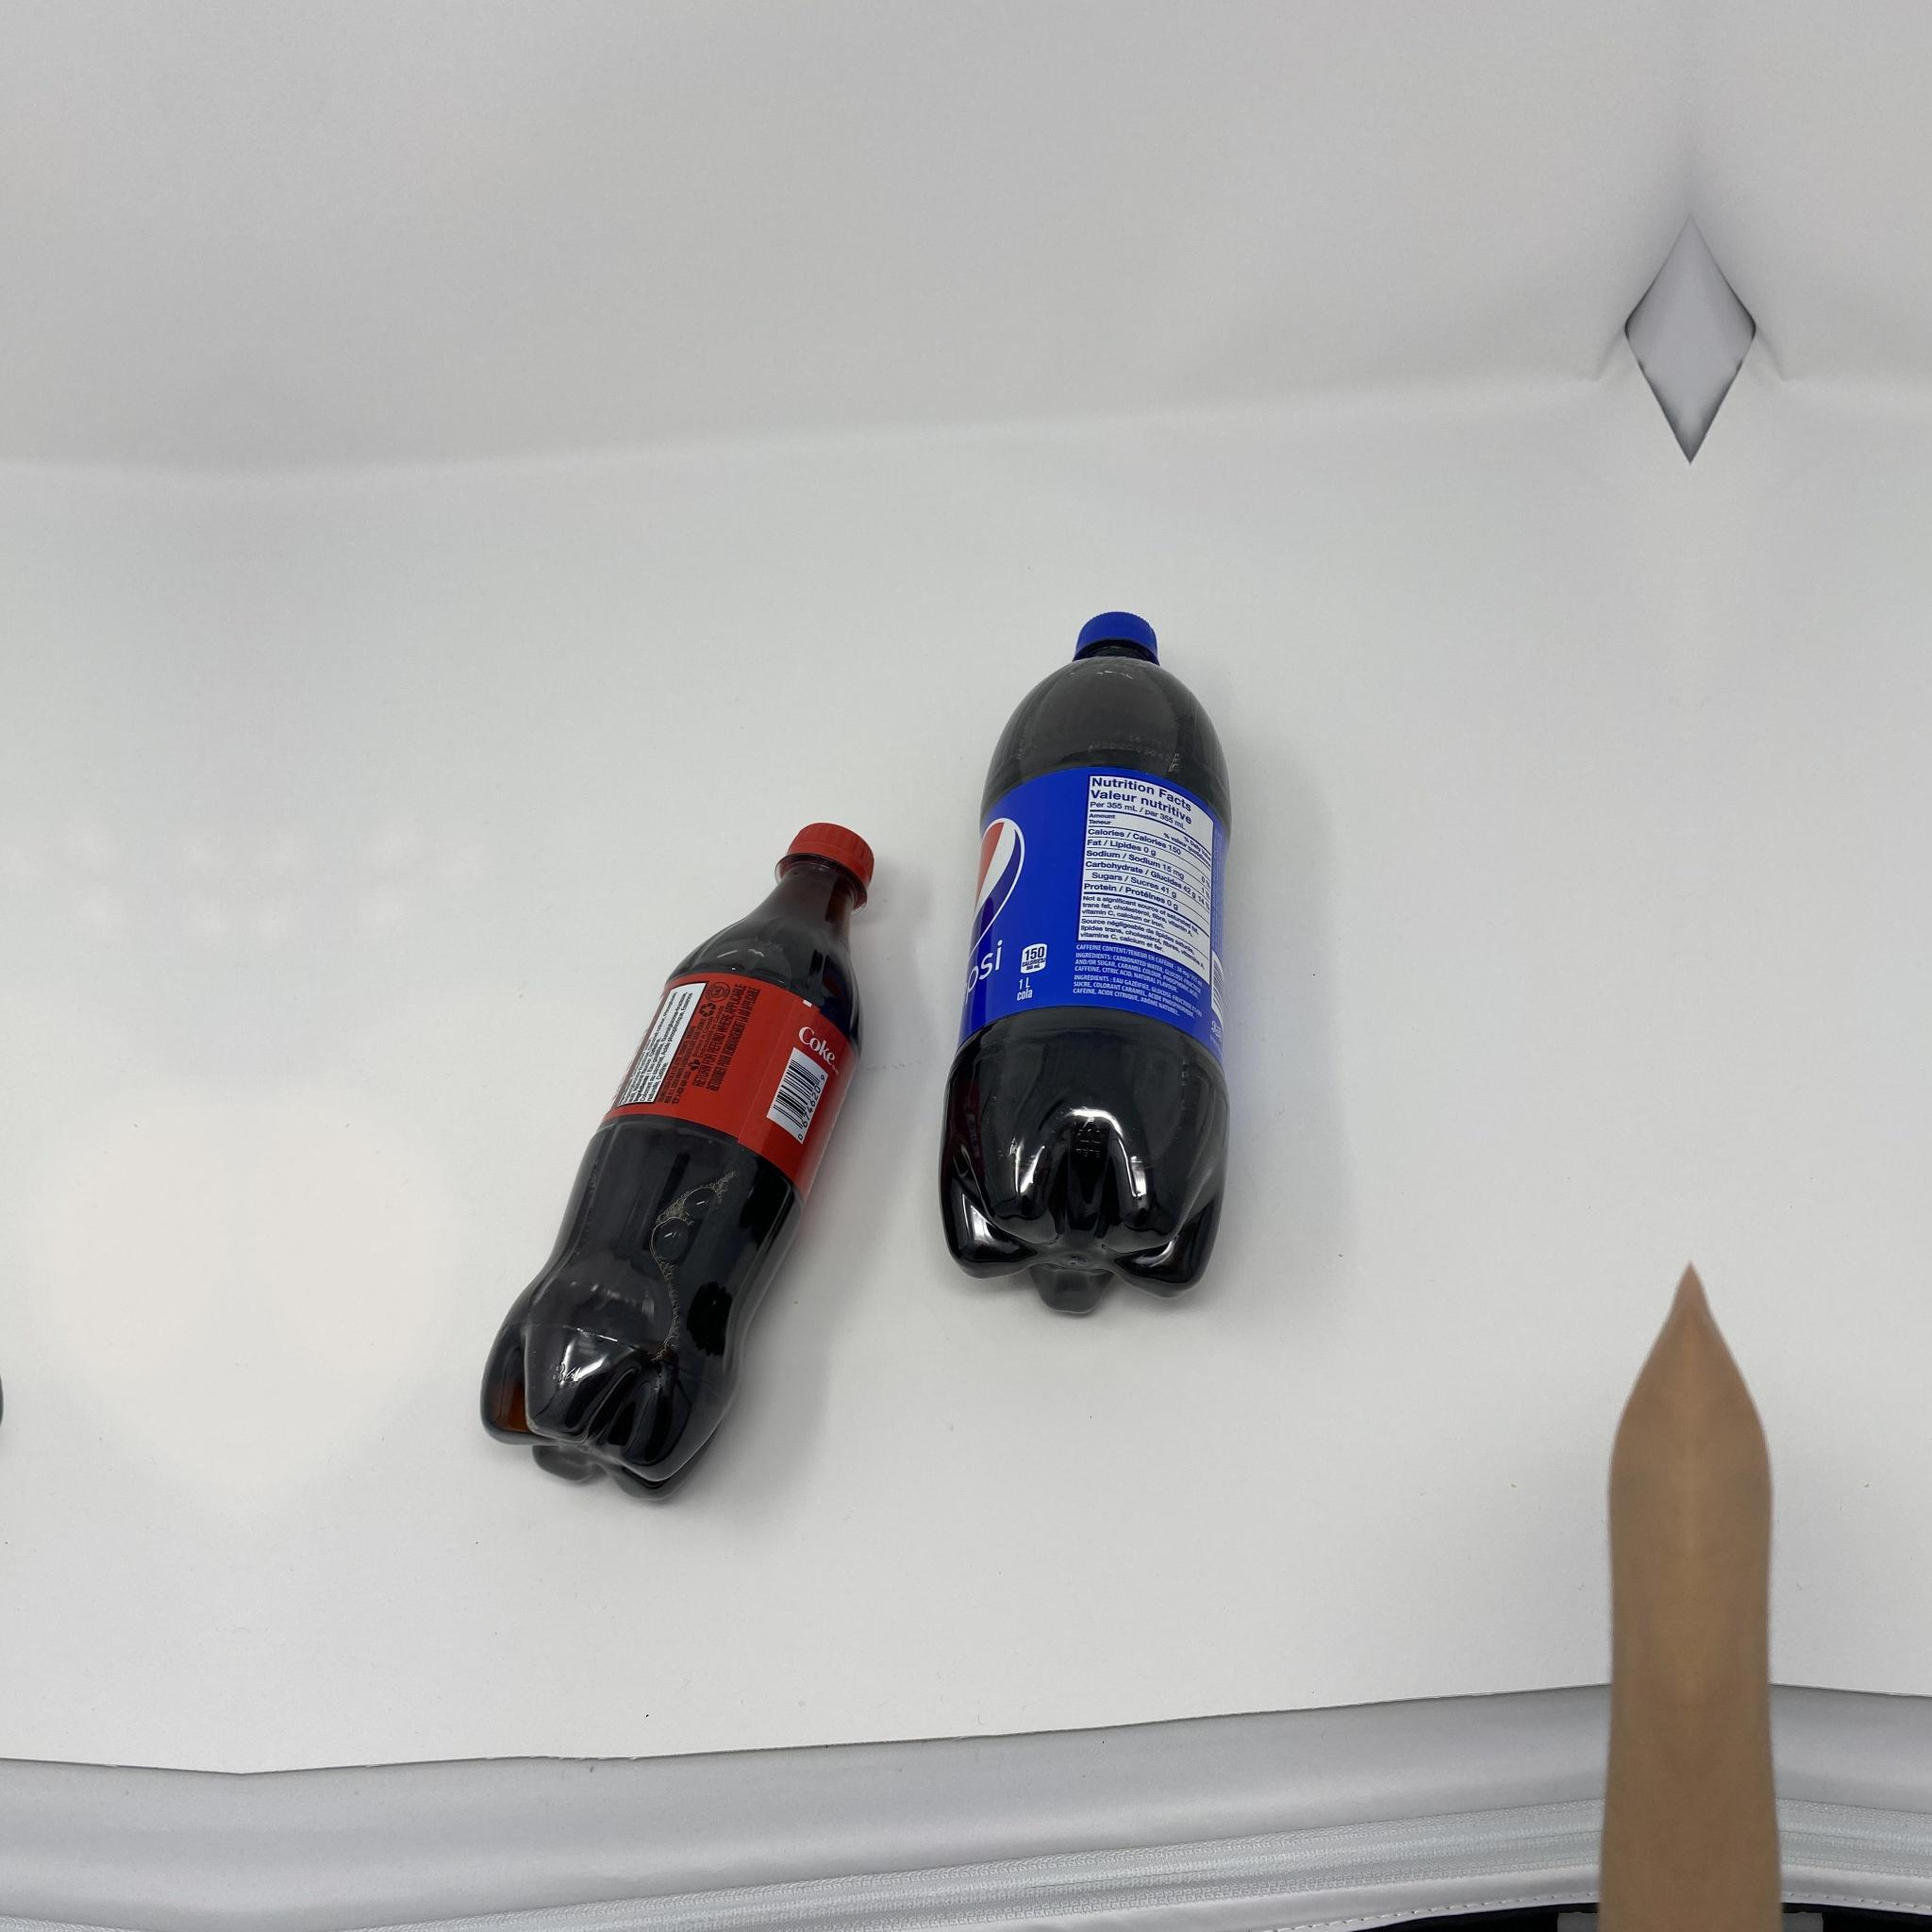PET: (479, 819, 876, 1493)
cocacola: (479, 819, 876, 1493)
pepsi: (479, 819, 876, 1493)
plastic: (479, 819, 876, 1493), (938, 609, 1231, 1315)
soft-drink: (479, 819, 876, 1493)
